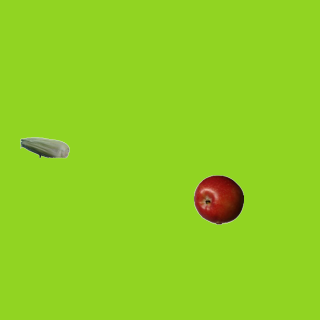Apple Braeburn: (193, 174, 243, 224)
Corn Husk: (19, 122, 69, 172)
